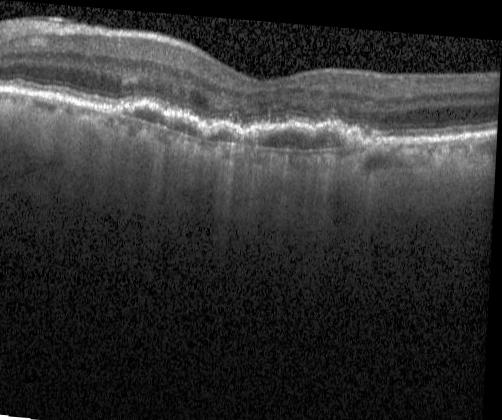retinal_drusen: (263, 123, 341, 144), (169, 116, 204, 134), (133, 104, 167, 121), (209, 125, 239, 138)
